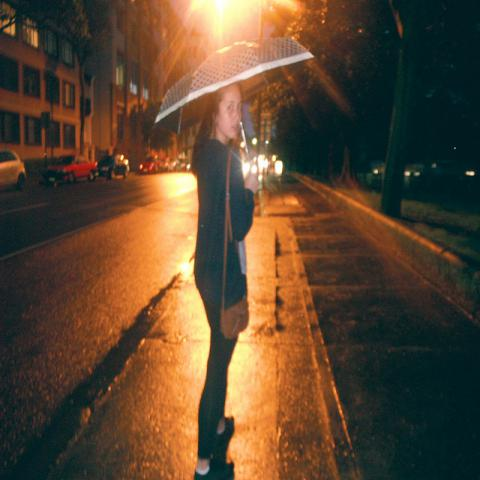car: (41, 155, 98, 184), (367, 161, 411, 190), (0, 150, 27, 191), (97, 154, 130, 180), (139, 156, 159, 173), (156, 156, 172, 172), (244, 160, 257, 176), (169, 160, 182, 172)
